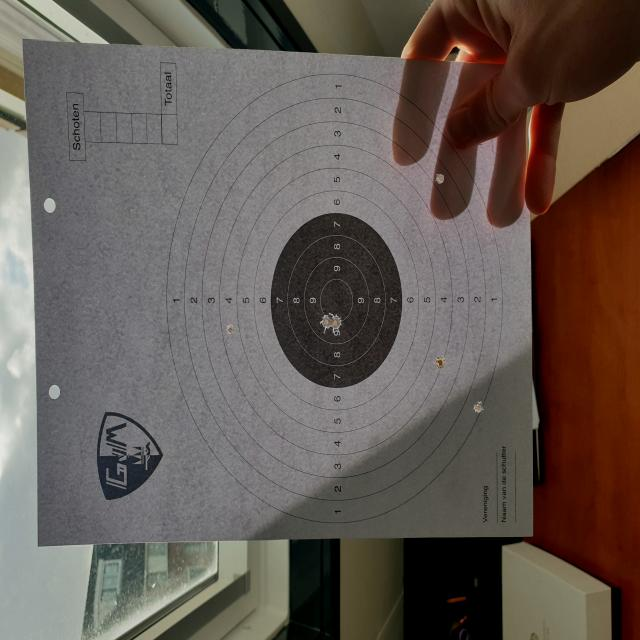1: (473, 400, 484, 414)
10: (330, 313, 342, 332), (321, 313, 331, 329)
2: (435, 174, 444, 184)
4: (433, 354, 447, 372), (226, 324, 235, 335)
Target: (164, 68, 505, 525)
black_contour: (271, 212, 404, 388)
